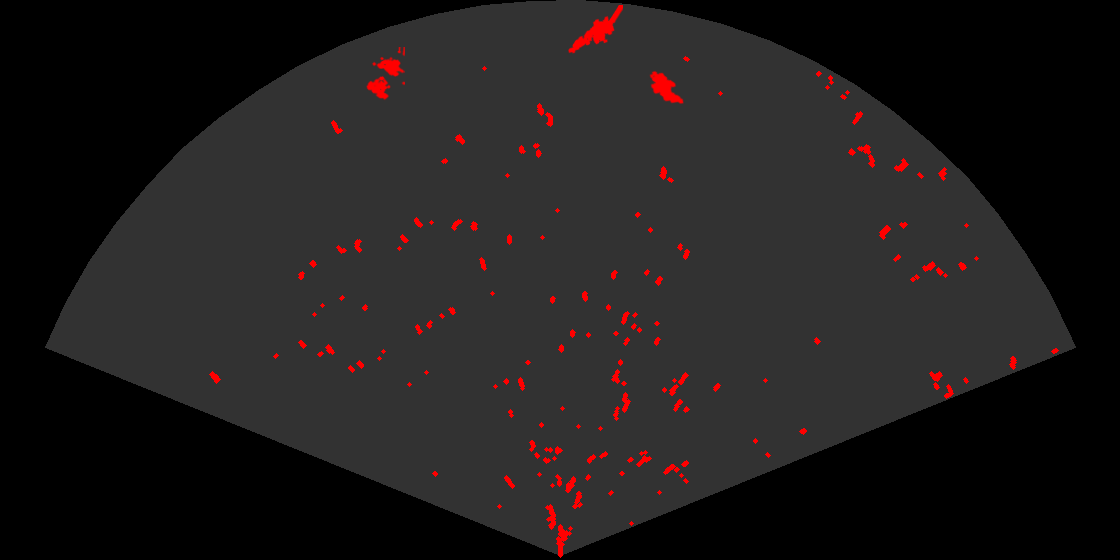AUV: (648, 69, 685, 106)
cage: (365, 47, 405, 102)
frogman: (567, 5, 623, 55)
